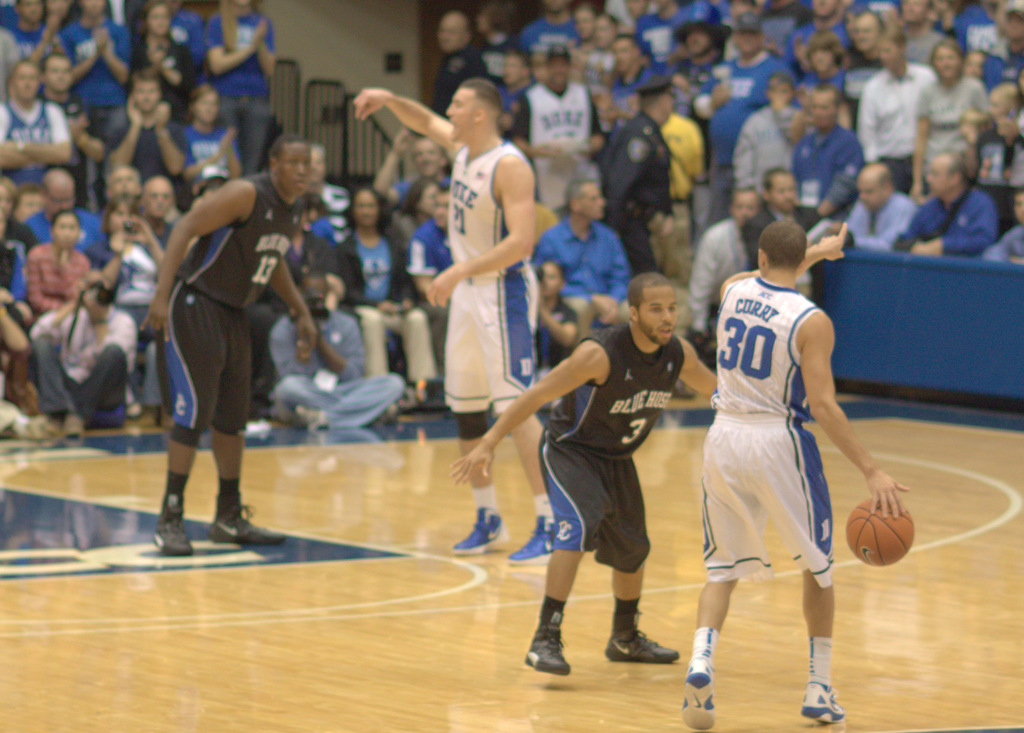Ball: (844, 499, 916, 566)
